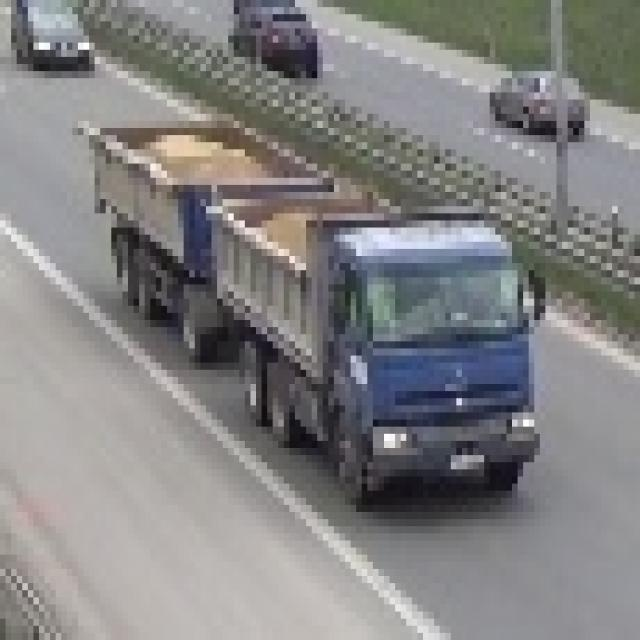Truck: (94, 114, 552, 505)
